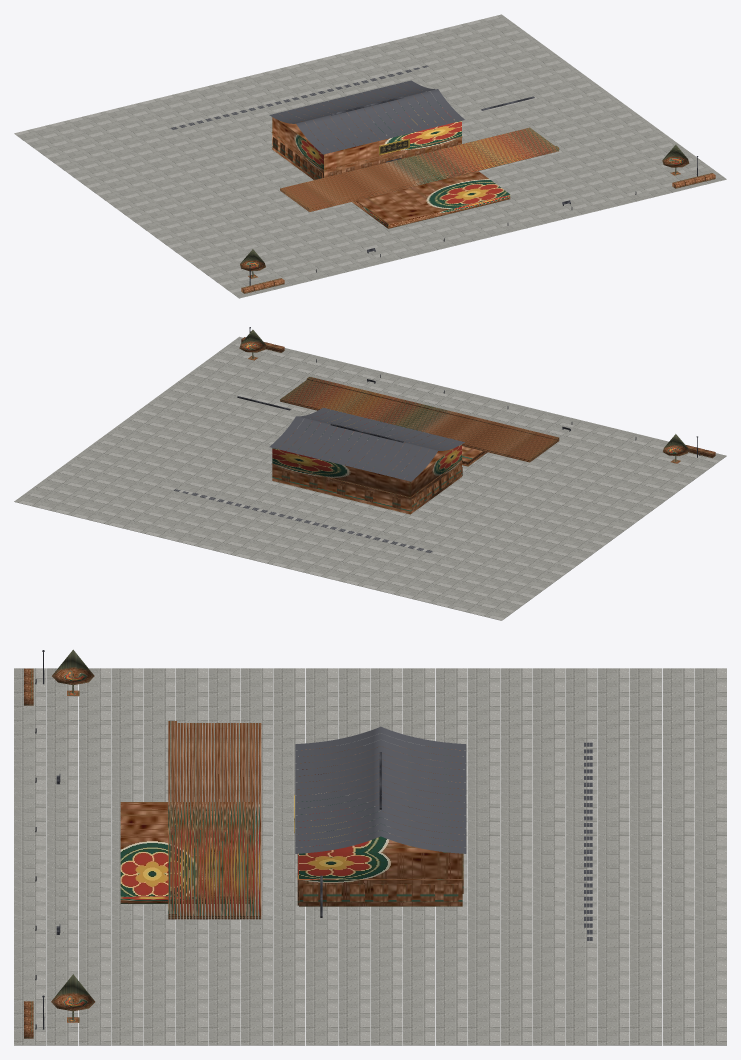
The picture shows the model from 3 angles, top to bottom: view 1: azimuth 30°, elevation 25°; view 2: azimuth 150°, elevation 25°; view 3: azimuth 270°, elevation 25°; orthographic projection. The views are drawn at different scales.
Visible parts, largest first — view 1: 11710_01_05540_017_01__plinth_ground_base, 11710_01_05540_017_02__mass_body_facade, 11710_01_05540_017_03__roof_deck_structure, 11710_01_05540_017_06__landscape_greenery; view 2: 11710_01_05540_017_01__plinth_ground_base, 11710_01_05540_017_02__mass_body_facade, 11710_01_05540_017_03__roof_deck_structure, 11710_01_05540_017_06__landscape_greenery; view 3: 11710_01_05540_017_01__plinth_ground_base, 11710_01_05540_017_02__mass_body_facade, 11710_01_05540_017_03__roof_deck_structure, 11710_01_05540_017_06__landscape_greenery.
Part boxes in pixels (x1,y1,x2,y2): 11710_01_05540_017_01__plinth_ground_base: (14, 14, 726, 298); 11710_01_05540_017_02__mass_body_facade: (271, 86, 559, 228); 11710_01_05540_017_03__roof_deck_structure: (170, 65, 464, 154); 11710_01_05540_017_06__landscape_greenery: (240, 144, 715, 293); 11710_01_05540_017_01__plinth_ground_base: (14, 336, 726, 620); 11710_01_05540_017_02__mass_body_facade: (271, 376, 559, 514); 11710_01_05540_017_03__roof_deck_structure: (174, 407, 464, 552); 11710_01_05540_017_06__landscape_greenery: (239, 329, 715, 463); 11710_01_05540_017_01__plinth_ground_base: (14, 668, 726, 1045); 11710_01_05540_017_02__mass_body_facade: (120, 721, 463, 919); 11710_01_05540_017_03__roof_deck_structure: (295, 726, 592, 940); 11710_01_05540_017_06__landscape_greenery: (24, 649, 95, 1038).
Size of the model in its own units: 120 by 11.45 by 95.95.
7 materials, 7 textured.
